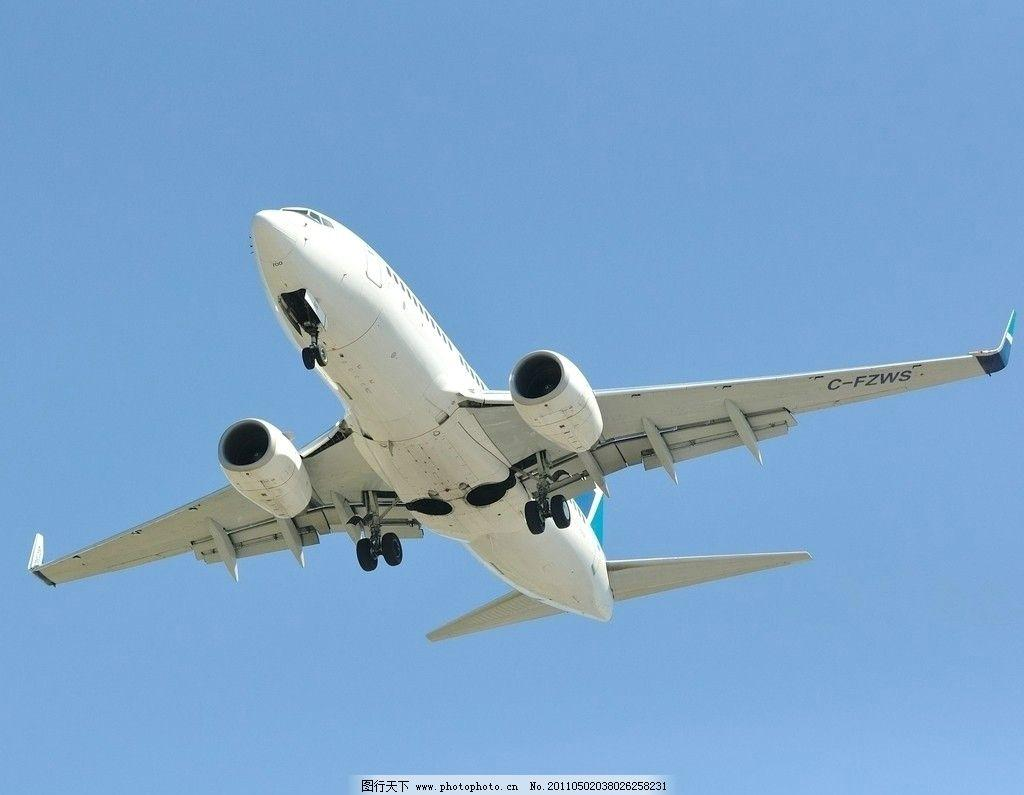airplane: (23, 202, 1021, 644)
